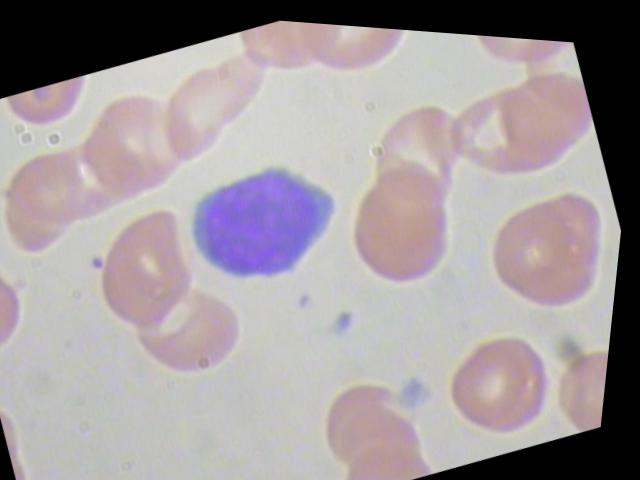Platelets: (399, 366, 444, 408), (328, 297, 371, 336)
Red Blood Cells: (68, 191, 225, 349), (346, 78, 503, 235), (143, 35, 298, 176), (120, 263, 269, 402), (433, 306, 576, 450), (299, 349, 451, 479), (60, 79, 198, 222), (474, 174, 610, 317), (340, 164, 471, 293), (479, 49, 610, 177), (0, 126, 116, 254), (292, 17, 438, 94), (443, 26, 580, 88), (546, 317, 616, 429)
White Blood Cells: (171, 131, 374, 306)
